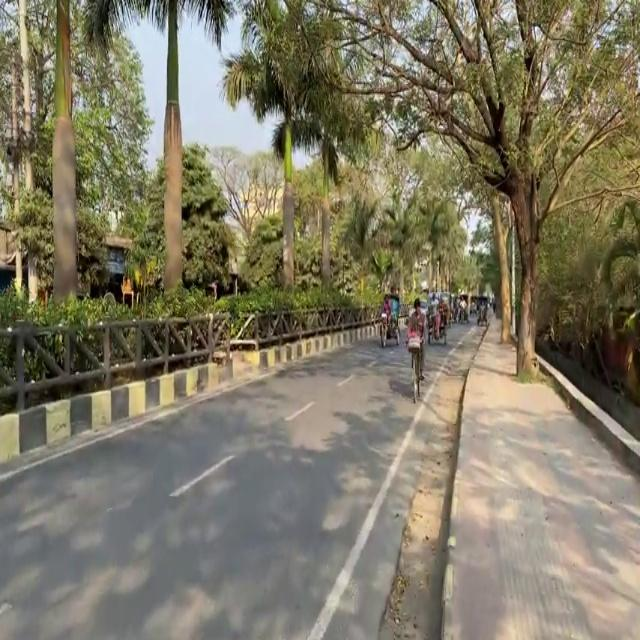Construction-barrier: (438, 317, 490, 639), (533, 346, 639, 473)
Fallen-tree: (377, 305, 400, 348), (476, 301, 489, 326)
Garbage-bin: (405, 298, 427, 381)
Light-pole: (50, 0, 78, 305), (13, 0, 38, 302), (161, 0, 184, 295), (281, 121, 295, 289)
Pole: (0, 296, 389, 460)
Pothole: (439, 306, 639, 639)
